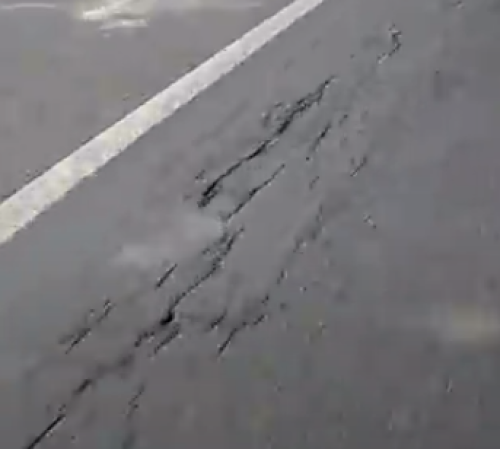Retak Memanjang: (184, 77, 327, 212), (205, 115, 338, 232), (132, 231, 239, 351), (207, 266, 279, 369), (23, 381, 95, 449), (57, 303, 115, 362)
